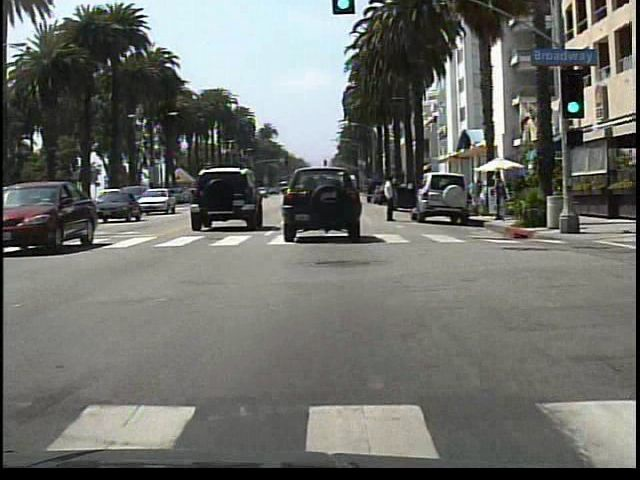person: (379, 171, 402, 227)
